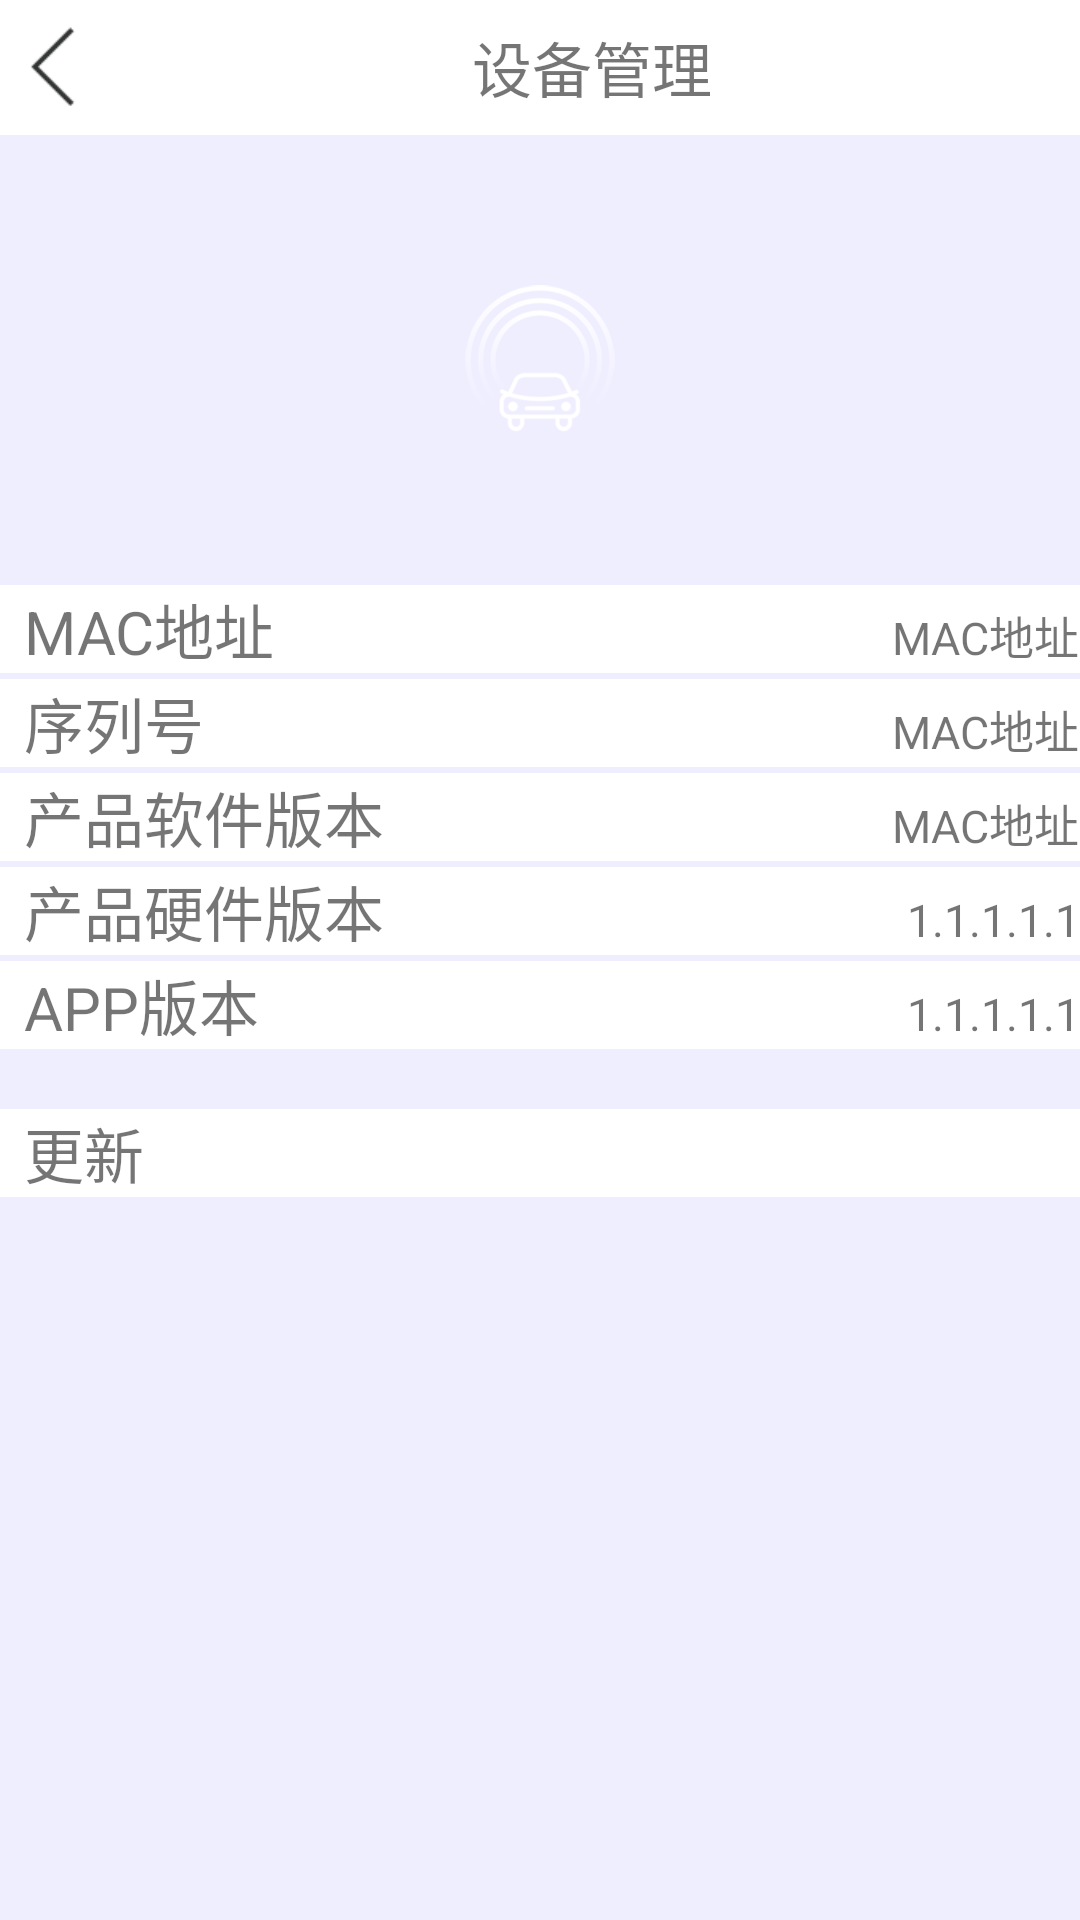

Icon bounding boxes for this 1080x1920 phone screenshot, format (x1, y1, x2, y2):
back: (31, 27, 74, 106)
